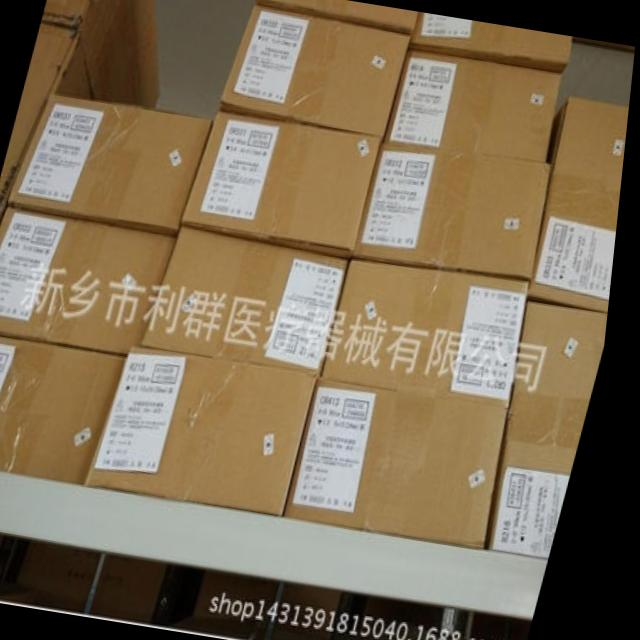box: (294, 377, 517, 550), (94, 348, 325, 515), (148, 226, 354, 376), (330, 260, 535, 408), (499, 301, 614, 558), (186, 111, 384, 260), (12, 93, 216, 234), (356, 141, 555, 280), (0, 205, 182, 356), (221, 5, 411, 137), (535, 98, 631, 314), (0, 332, 134, 485), (389, 51, 564, 162), (0, 24, 99, 217), (41, 0, 164, 110), (410, 13, 574, 73)
